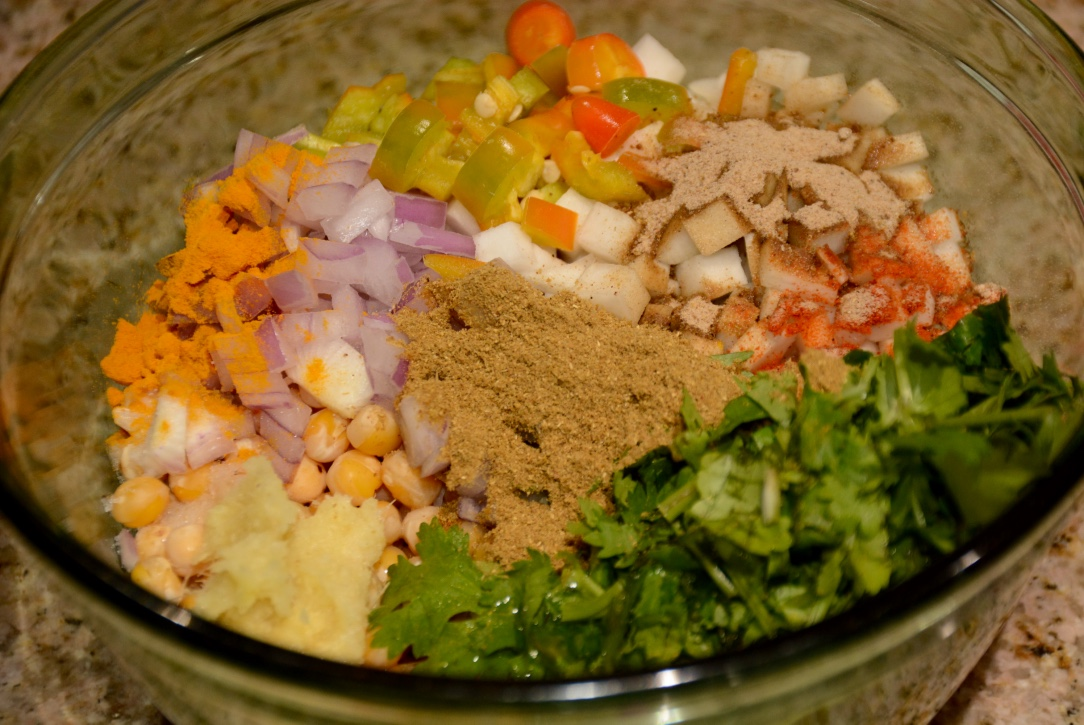chatpate: (125, 77, 978, 550)
